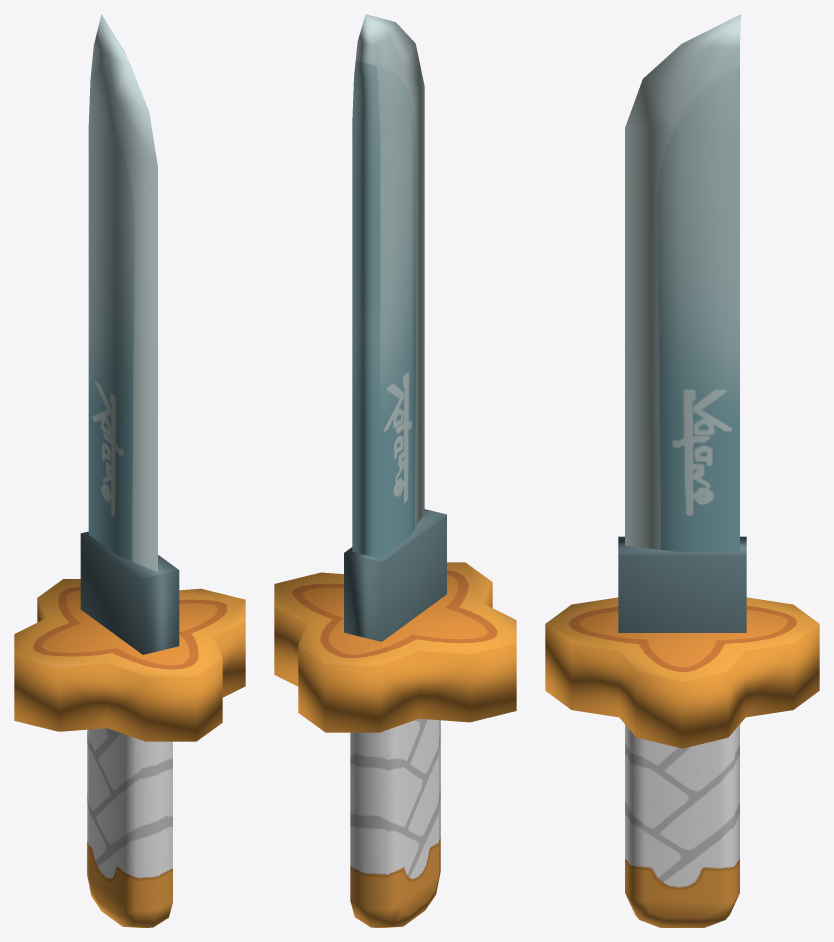
Rendered from kotaro-sword.glb.
The picture shows the model from 3 angles, left to right: view 1: azimuth 30°, elevation 25°; view 2: azimuth 150°, elevation 25°; view 3: azimuth 270°, elevation 25°; orthographic projection. The views are drawn at different scales.
Visible parts, largest first — view 1: Kotaro_Sword_Mesh; view 2: Kotaro_Sword_Mesh; view 3: Kotaro_Sword_Mesh.
Part boxes in pixels (<box>): Kotaro_Sword_Mesh: <box>14,14,245,927</box>; Kotaro_Sword_Mesh: <box>274,14,516,927</box>; Kotaro_Sword_Mesh: <box>545,14,819,927</box>.
Bounding box in the file's own units: 0.3217 × 1.18 × 0.3217.
1 material, 1 textured.
